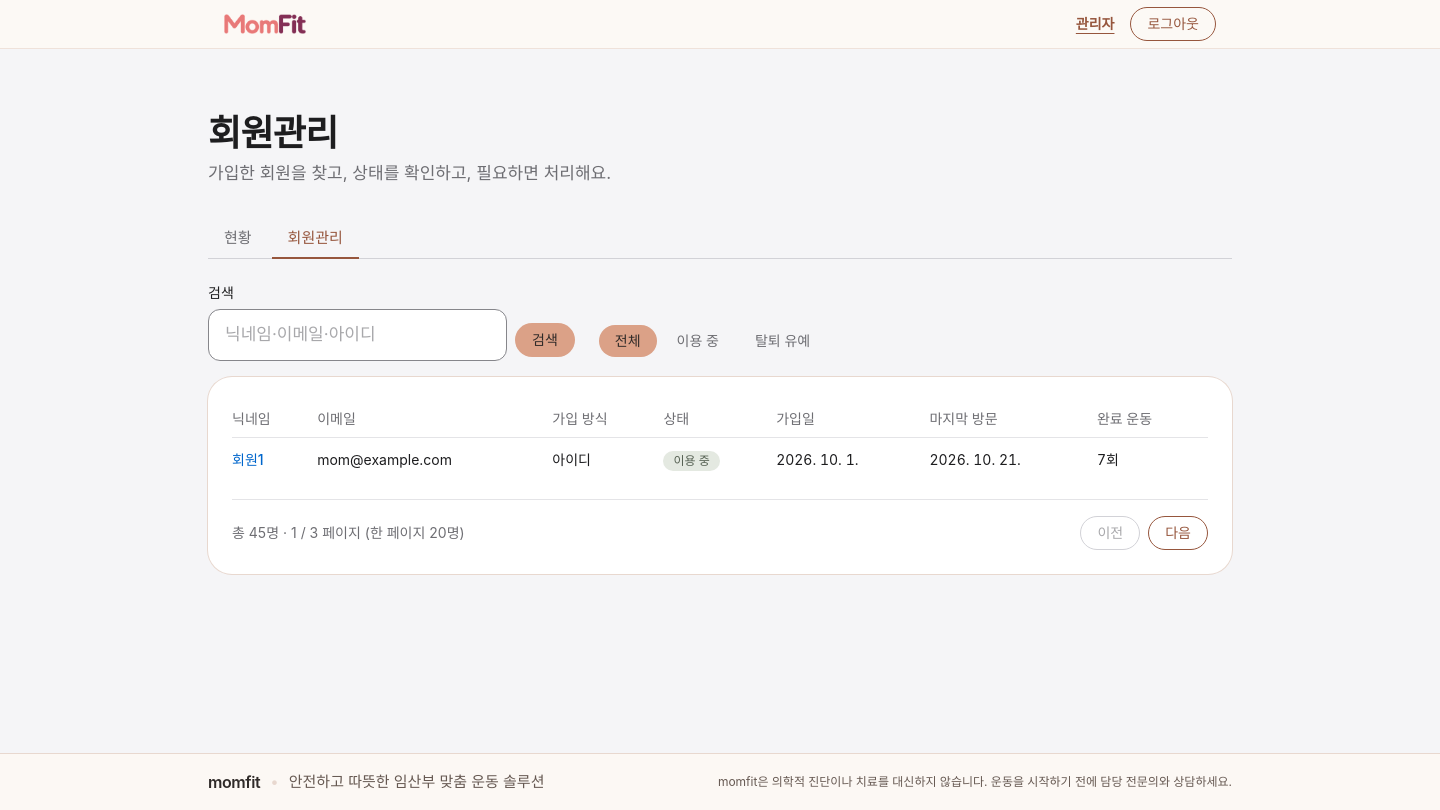
회원 목록 › 페이지를 넘기고, 처음과 끝에서는 막는다
Expected: the text "총 45명 · 1 / 3 페이지 (한 페이지 20명)" is shown, [232,522,465,542]
Expected: the button "이전" is disabled, [1080,516,1140,550]
Click the button "다음": x=1178, y=532 [1148,516,1208,550]
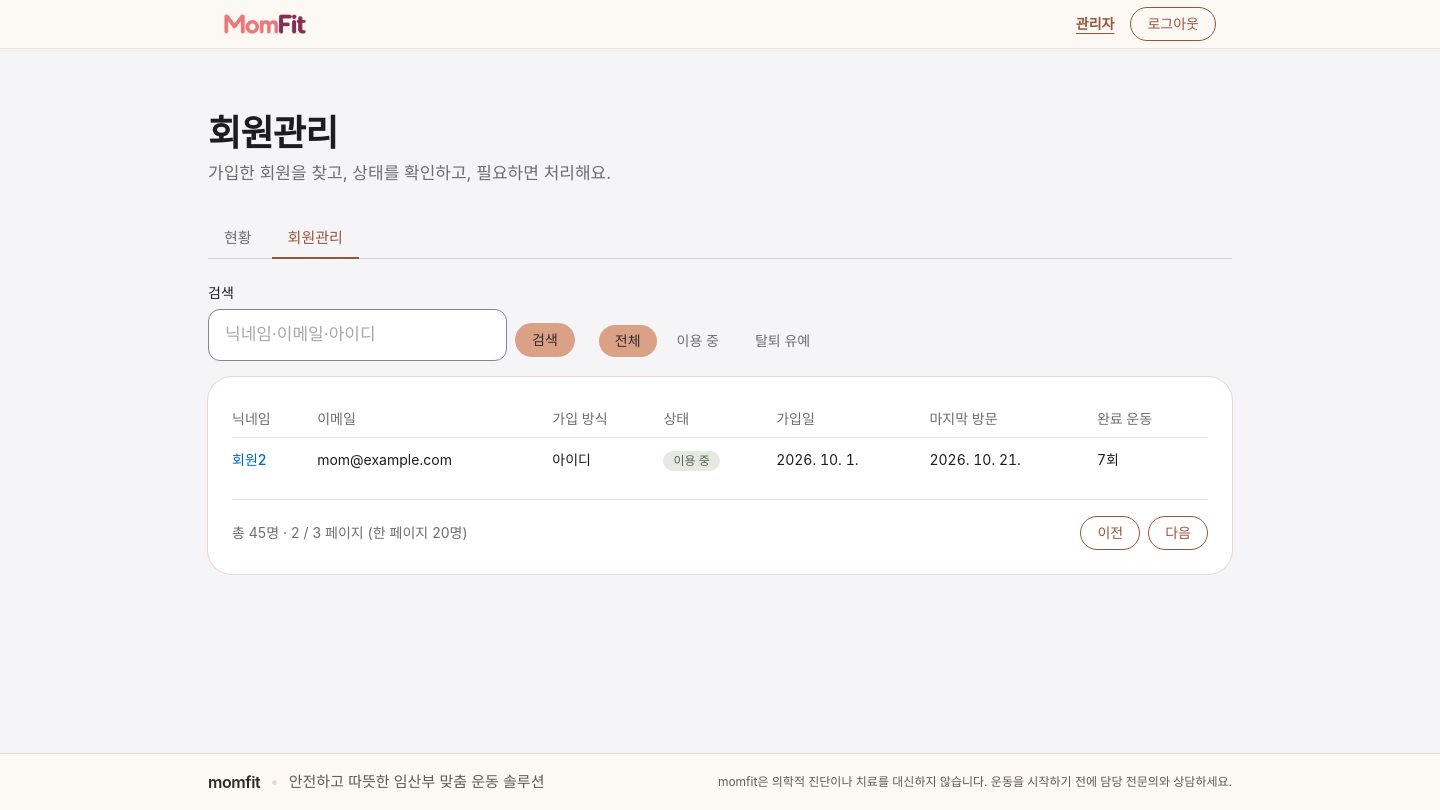
Expected: the text "총 45명 · 2 / 3 페이지 (한 페이지 20명)" is shown, [232,522,468,542]
Click the button "다음": x=1178, y=532 [1148,516,1208,550]
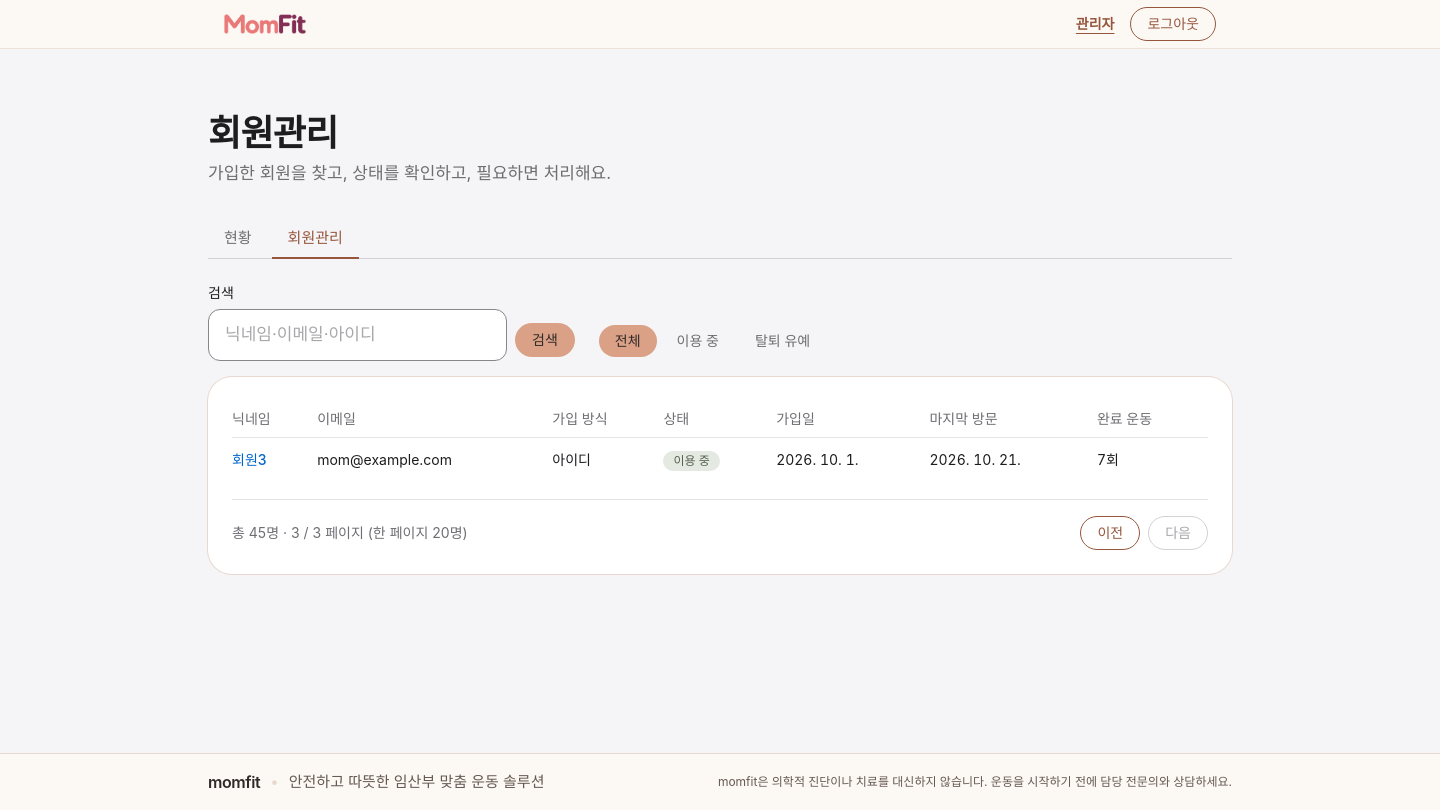
Expected: the text "총 45명 · 3 / 3 페이지 (한 페이지 20명)" is shown, [232,522,468,542]
Expected: the button "다음" is disabled, [1148,516,1208,550]
